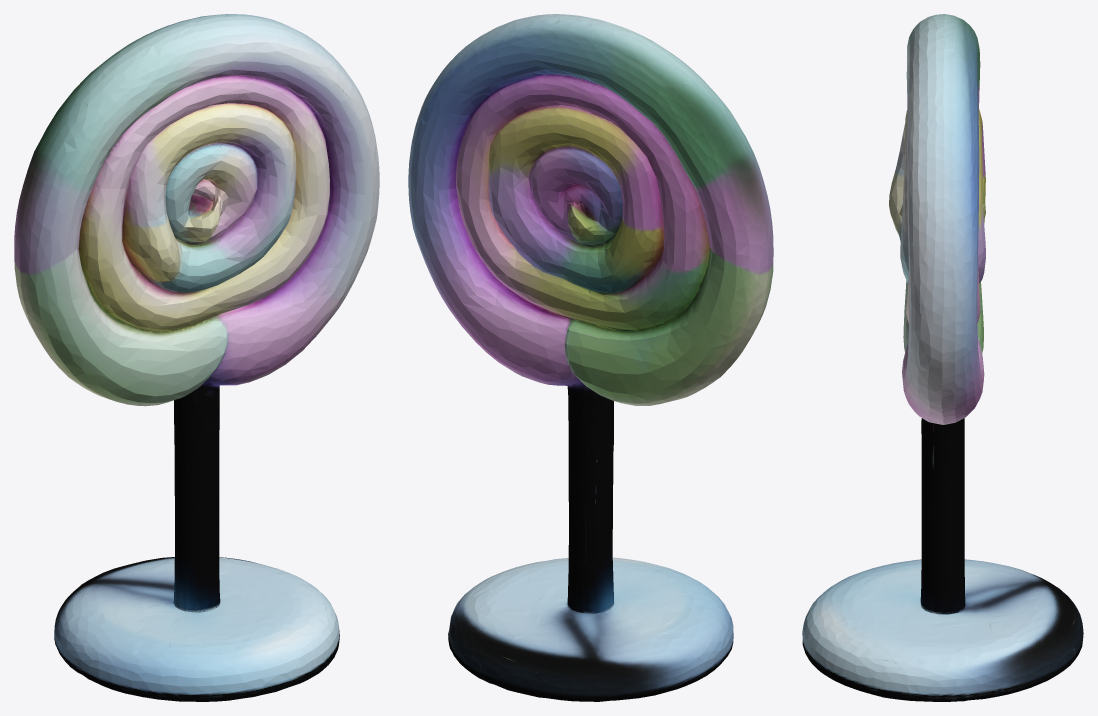
The model's file is prop_lollipop.glb.
3 renders of one model, left to right at view 1: azimuth 30°, elevation 25°; view 2: azimuth 150°, elevation 25°; view 3: azimuth 270°, elevation 25°, orthographic.
Visible parts, largest first — view 1: world; view 2: world; view 3: world.
Part boxes in pixels (x1,y1,x2,y2): world: (14,14,379,701); world: (408,14,773,701); world: (802,14,1083,701).
Bounding box in the file's own units: 0.5935 × 0.9984 × 0.4144.
1 material, 1 textured.
